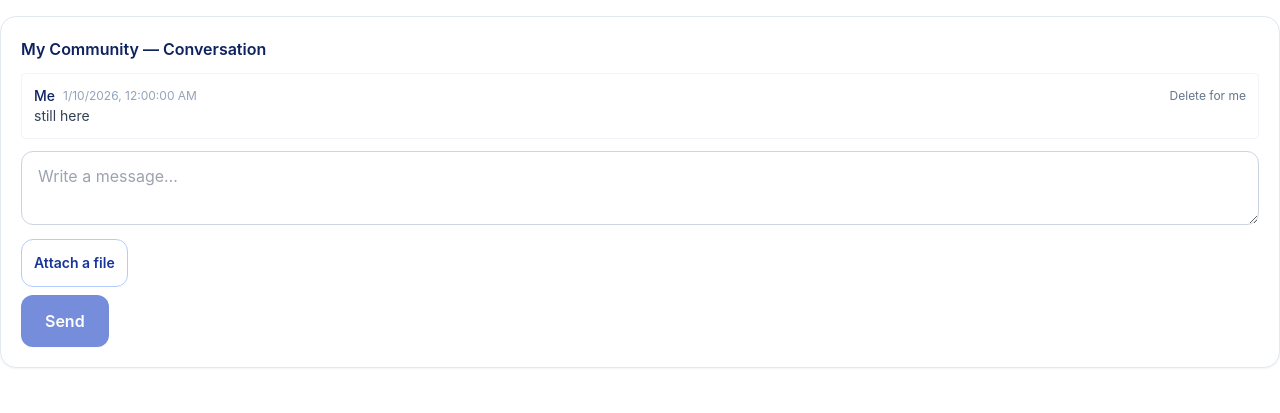
Test: CommunityConversation — Phase 3M.8C delete for me › shows an error and keeps the message visible when hiding fails
Click the button "Delete for me".
click(1208, 96)  # box [1170, 88, 1246, 104]
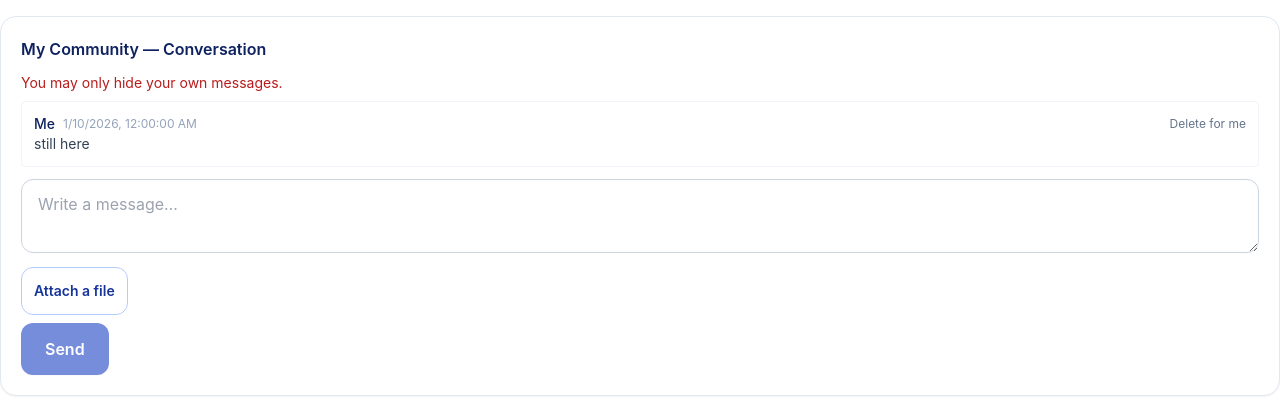
Check: the text "still here" is shown, box [34, 135, 90, 152]
Check: the text "You may only hide your own messages." is shown, box [21, 74, 283, 91]
